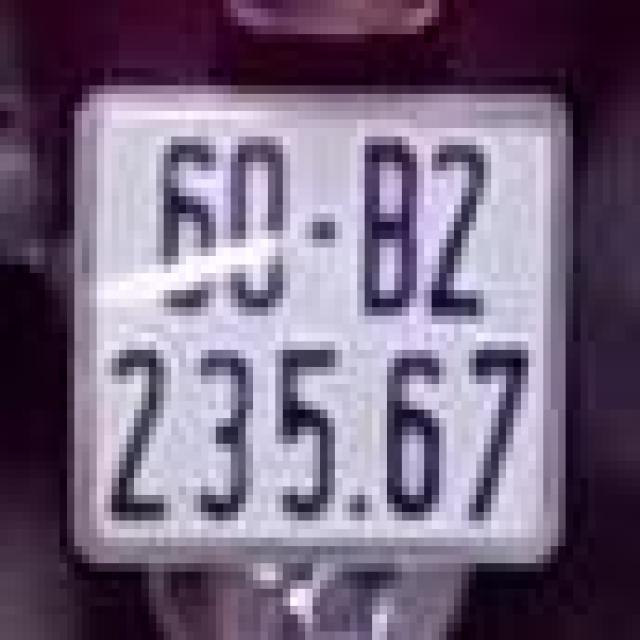0: (223, 120, 290, 324)
2: (100, 337, 168, 533), (432, 132, 498, 320)
3: (190, 332, 257, 538)
5: (276, 328, 342, 525)
6: (149, 124, 223, 320), (376, 333, 450, 520)
7: (461, 328, 536, 542)
B: (354, 132, 421, 329)
